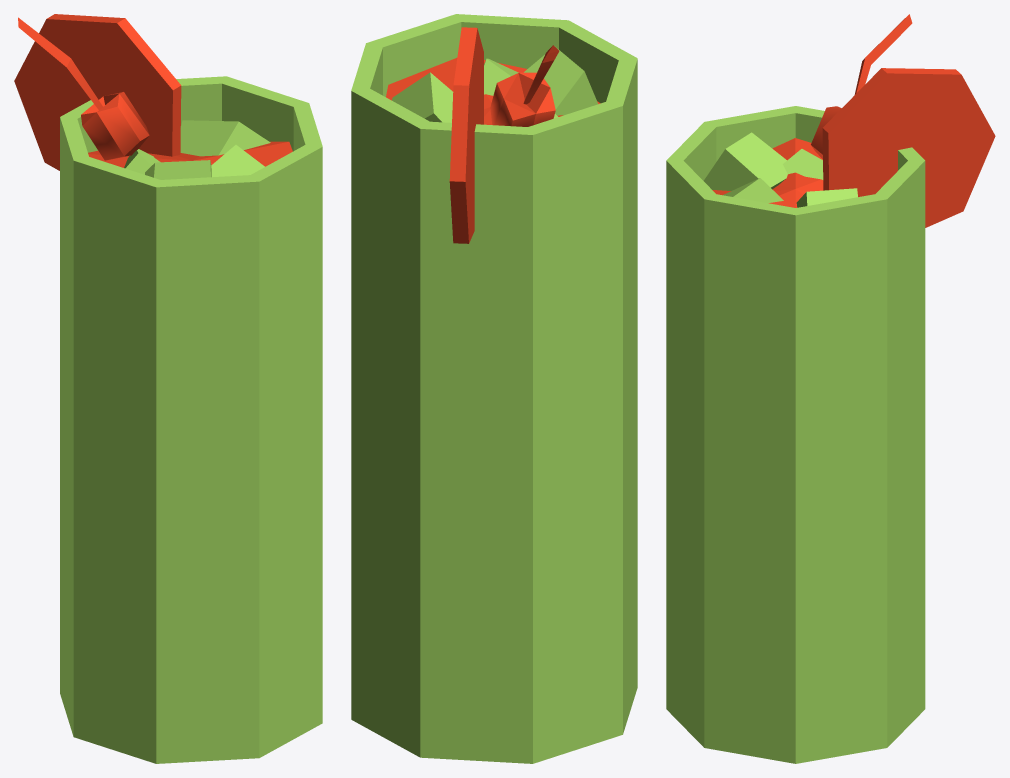
File: SM_Drink_FruitHeaven_City.fbx
The picture shows the model from 3 angles, left to right: view 1: azimuth 30°, elevation 25°; view 2: azimuth 150°, elevation 25°; view 3: azimuth 270°, elevation 25°; orthographic projection. The views are drawn at different scales.
Parts seen in each view (by area): view 1: SM_Drink_FruitHeaven_City; view 2: SM_Drink_FruitHeaven_City; view 3: SM_Drink_FruitHeaven_City.
Part boxes in pixels (box(x1,y1,x2,y2)): SM_Drink_FruitHeaven_City: box(14, 14, 322, 763); SM_Drink_FruitHeaven_City: box(351, 14, 637, 763); SM_Drink_FruitHeaven_City: box(666, 14, 995, 763).
Bounding box in the file's own units: 0.0955 × 0.2616 × 0.1215.
